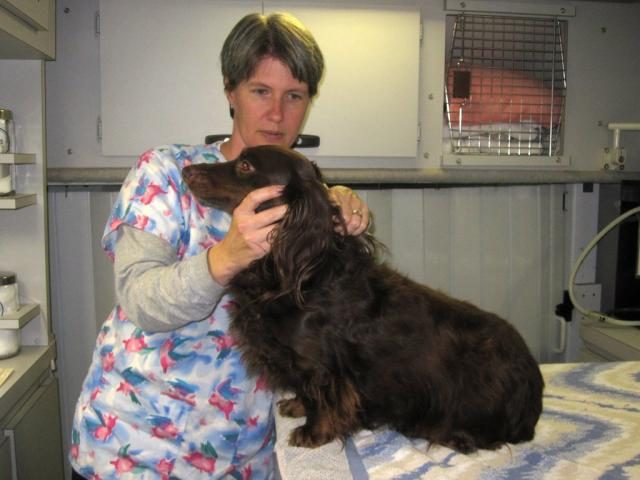Dog: (183, 146, 544, 460)
